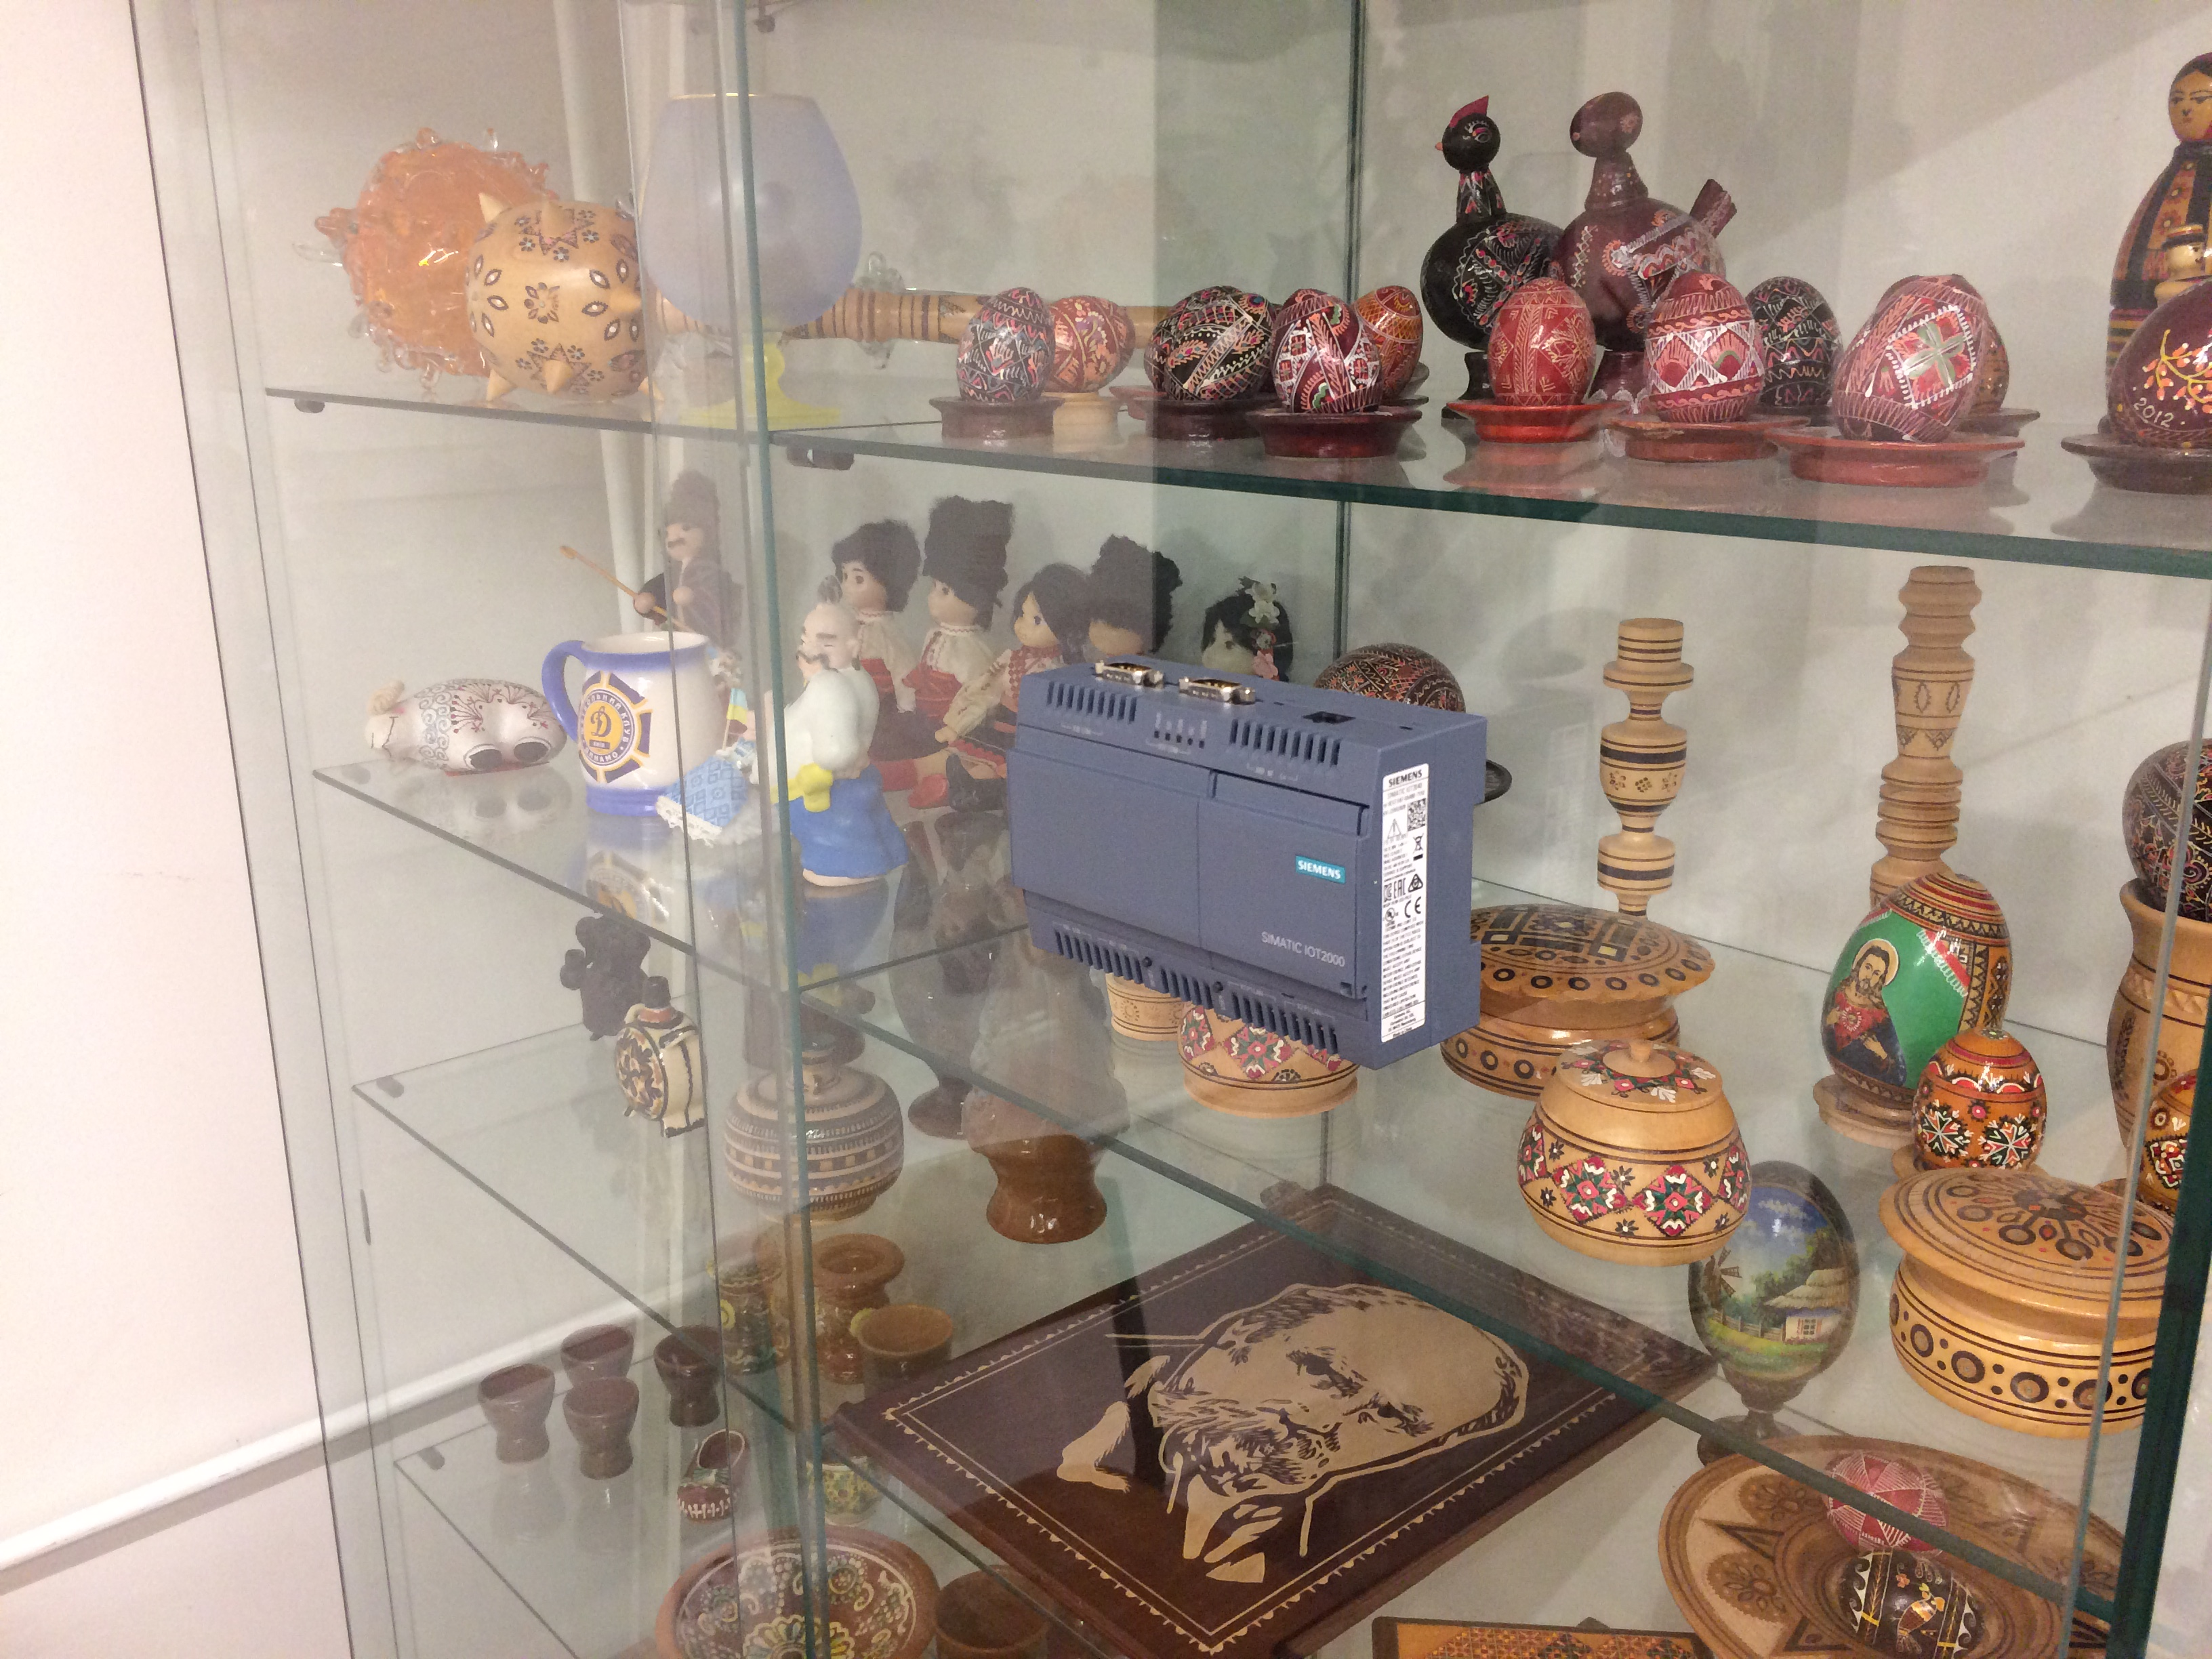iot2000: (1005, 652, 1491, 1075)
